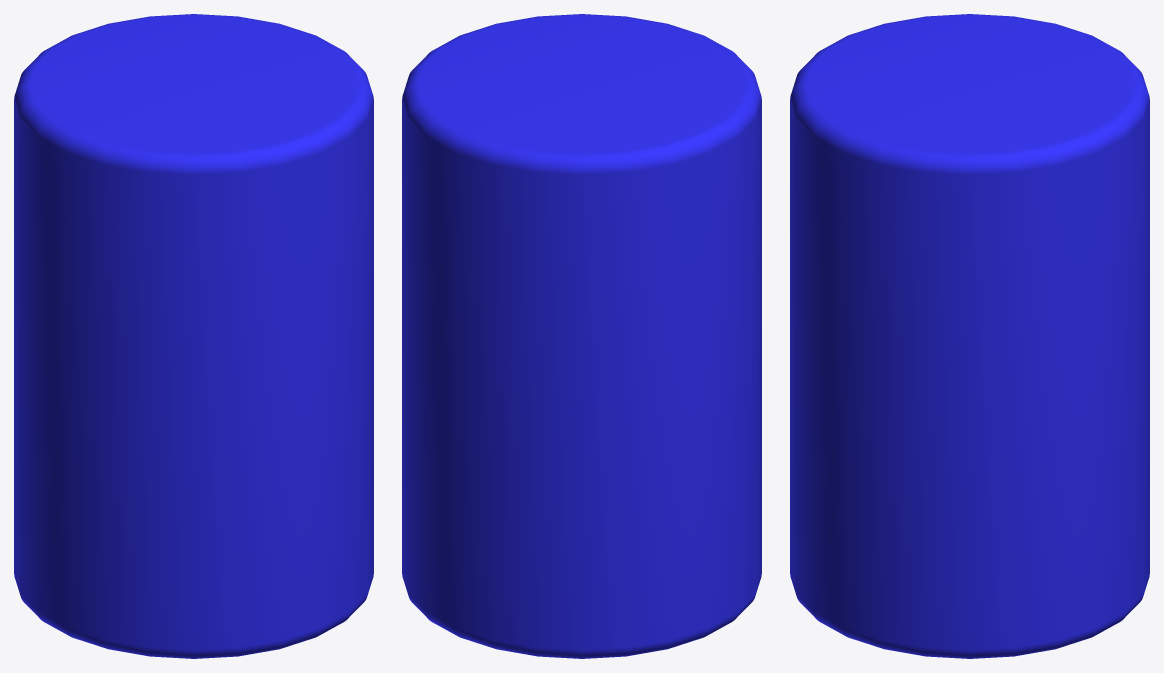
3 views of the same model, side by side, from view 1: azimuth 30°, elevation 25°; view 2: azimuth 150°, elevation 25°; view 3: azimuth 270°, elevation 25° (orthographic).
Parts seen in each view (by area): view 1: SketchUp; view 2: SketchUp; view 3: SketchUp.
Part boxes in pixels (x1,y1,x2,y2): SketchUp: (14,14,373,658); SketchUp: (402,14,761,658); SketchUp: (790,14,1149,658).
Size of the model in its own units: 22 by 22 by 33.99.
